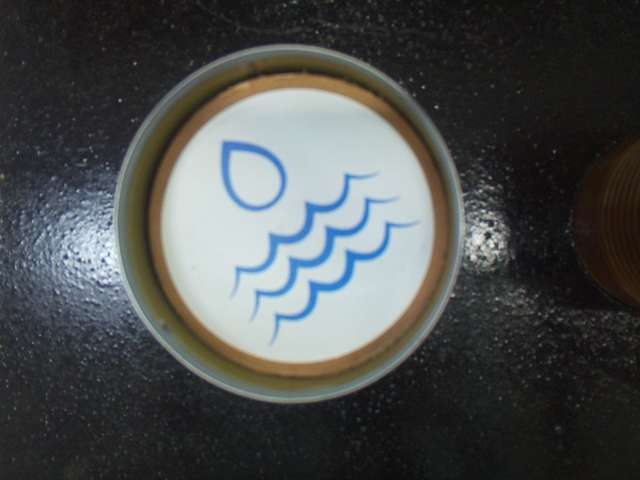water_barrel: (196, 126, 427, 356)
